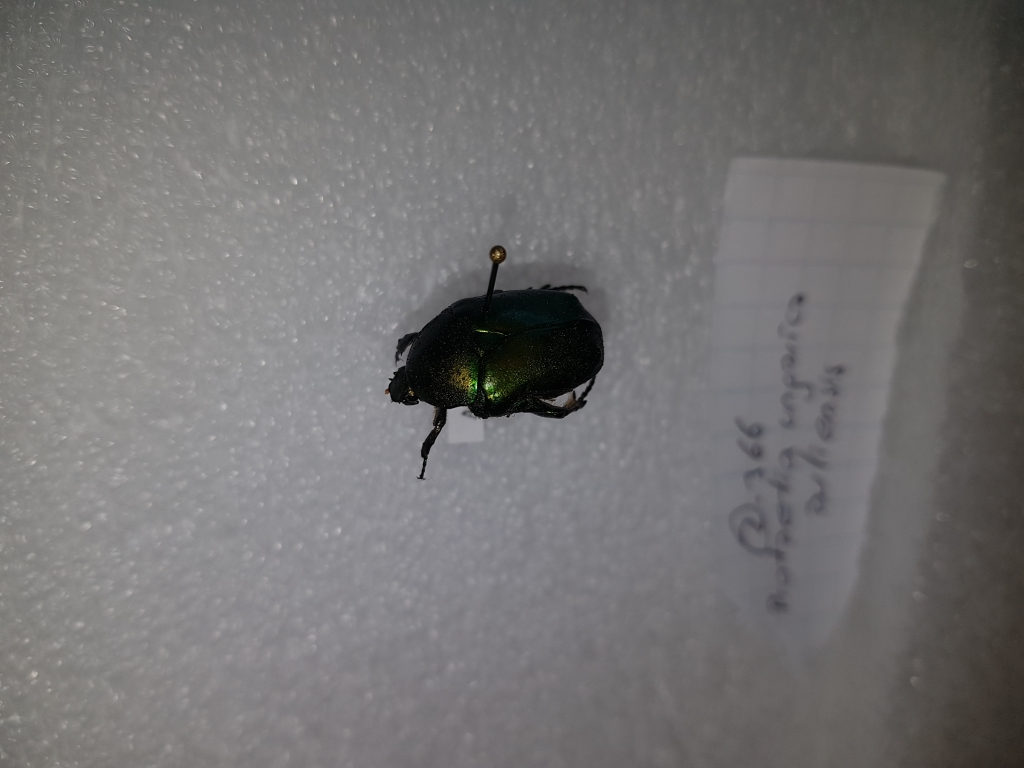Protaetia_ungarica_americana: (380, 273, 609, 482)
